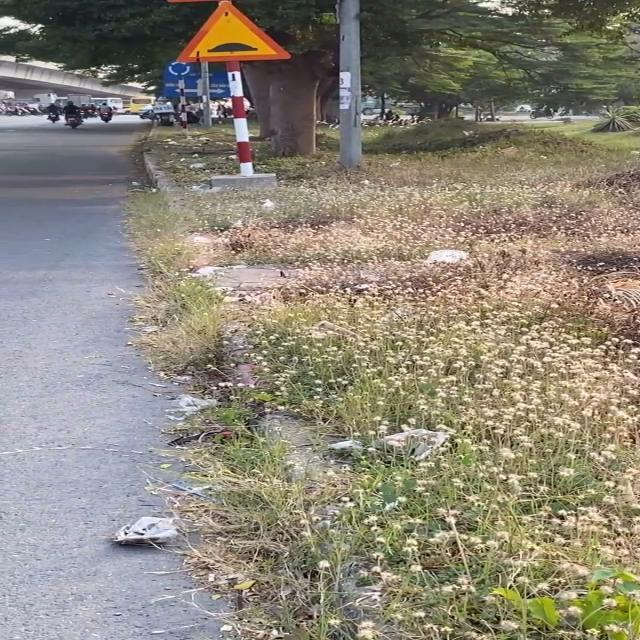221-duong-go-ghe: (177, 0, 293, 66)
303-noi-giao-nhau-chay-theo-vong-xuyen: (166, 60, 192, 77)
